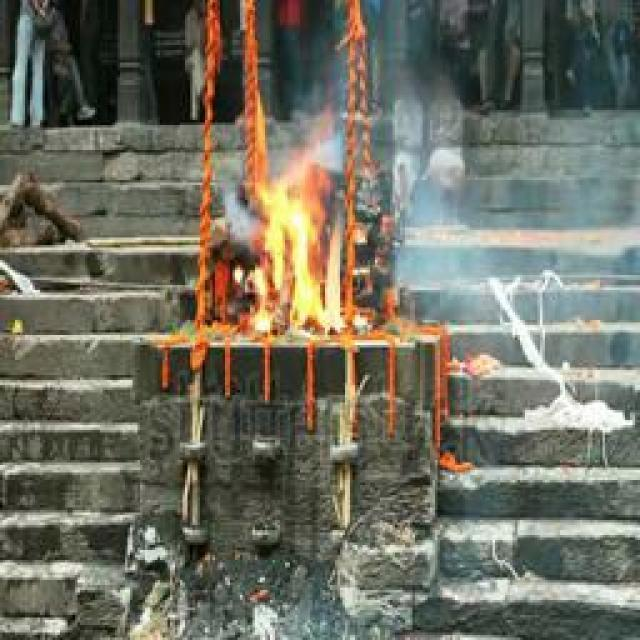Fire: (250, 161, 348, 342)
